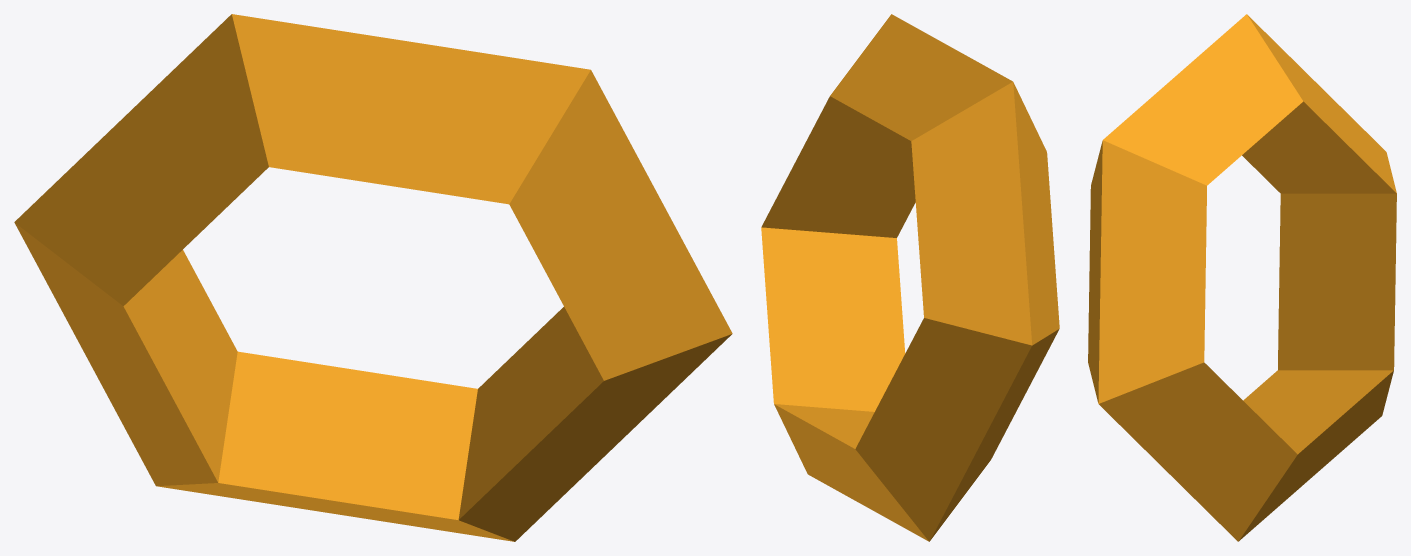
Rendered from Earring 02.FBX.
3 renders of one model, left to right at view 1: azimuth 30°, elevation 25°; view 2: azimuth 150°, elevation 25°; view 3: azimuth 270°, elevation 25°, orthographic. The views are drawn at different scales.
Visible parts, largest first — view 1: Earring 02; view 2: Earring 02; view 3: Earring 02.
Boxes of the visible parts, x1,y1,x2,y2 form: Earring 02: (14,14,732,541); Earring 02: (761,14,1059,541); Earring 02: (1088,14,1396,541).
Size of the model in its own units: 3.08 by 3.35 by 2.18.
1 material, 1 textured.
